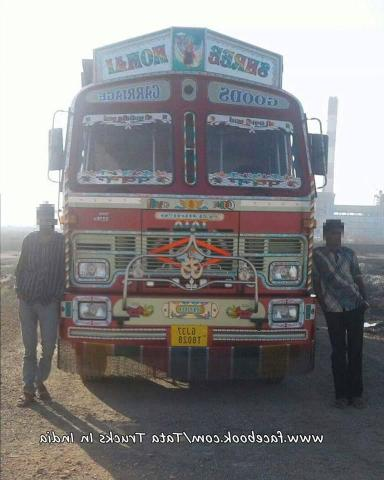truck: (50, 8, 357, 420)
